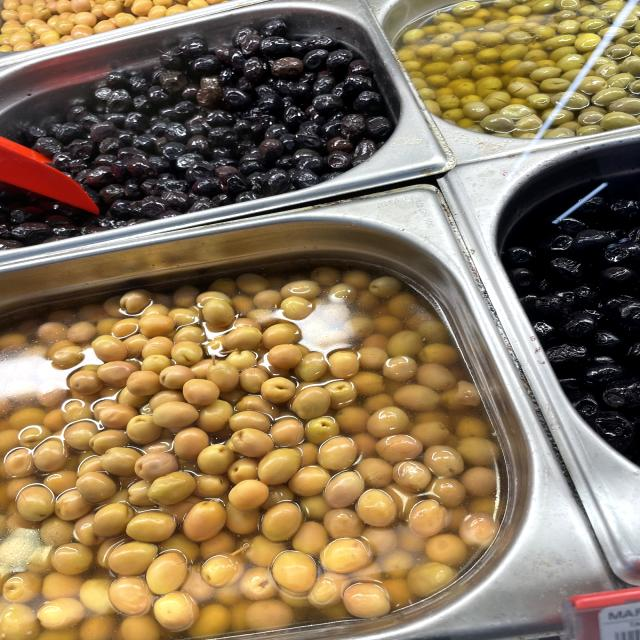olive: (188, 91, 353, 152), (542, 249, 598, 289), (115, 151, 167, 183)
